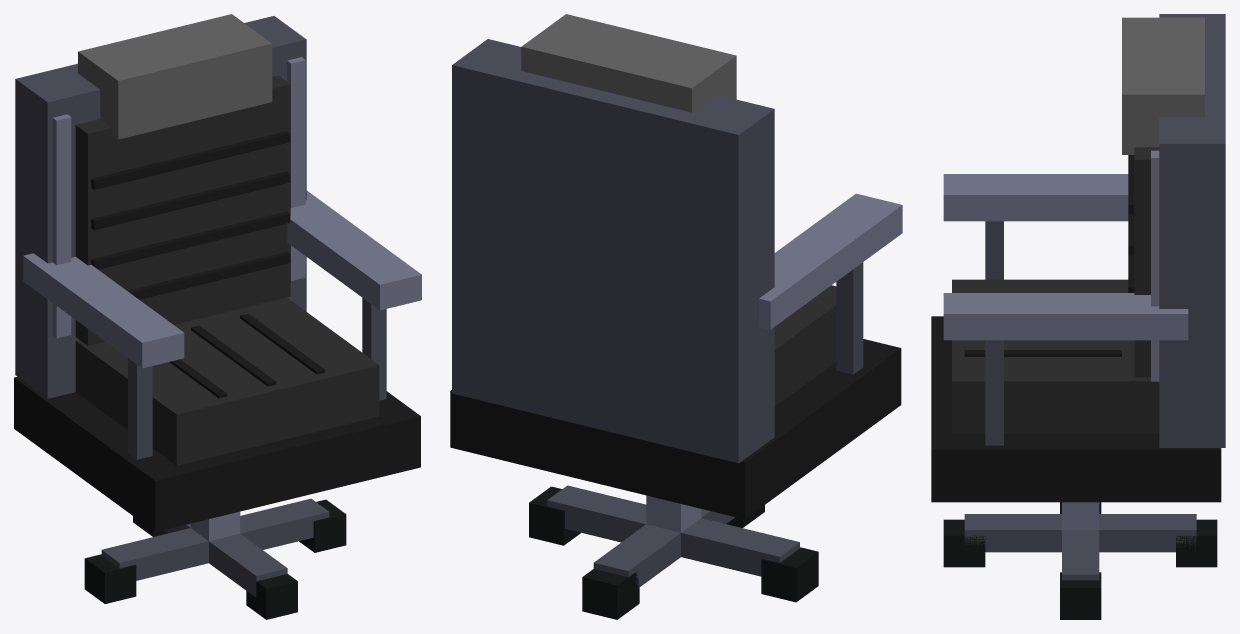
The model's file is CMU3DComfyChairARES.glb.
The picture shows the model from 3 angles, left to right: view 1: azimuth 30°, elevation 25°; view 2: azimuth 150°, elevation 25°; view 3: azimuth 270°, elevation 25°; orthographic projection. The views are drawn at different scales.
Parts seen in each view (by area): view 1: back cushion, seat cushion, seat base, back shell, headrest, upholstery rib (×4), left arm pad, right arm pad, back edge piping (×2), caster cross X, caster wheel (×3), arm front stanchion (×2) (+3 smaller); view 2: back shell, seat base, headrest, left arm pad, caster cross X, caster wheel (×3), seat cushion, caster cross Y, arm front stanchion, chrome swivel stem; view 3: back shell, seat base, seat cushion, right arm pad, headrest, left arm pad, caster cross Y, caster wheel (×3), back cushion, arm front stanchion (×2), caster cross X, back edge piping (+3 smaller).
Part boxes in pixels (left/top/right/bottom): back cushion: left=75, top=75, right=290, bottom=345; seat cushion: left=75, top=297, right=379, bottom=465; seat base: left=14, top=377, right=420, bottom=531; back shell: left=15, top=16, right=306, bottom=398; headrest: left=78, top=14, right=272, bottom=139; upholstery rib (×4): left=91, top=131, right=290, bottom=299; left arm pad: left=23, top=253, right=184, bottom=368; right arm pad: left=287, top=190, right=421, bottom=310; back edge piping (×2): left=52, top=57, right=305, bottom=338; caster cross X: left=101, top=498, right=329, bottom=580; caster wheel (×3): left=84, top=499, right=346, bottom=619; arm front stanchion (×2): left=128, top=298, right=386, bottom=459; back shell: left=452, top=39, right=774, bottom=463; seat base: left=450, top=339, right=901, bottom=519; headrest: left=521, top=14, right=736, bottom=112; left arm pad: left=759, top=193, right=902, bottom=329; caster cross X: left=547, top=485, right=799, bottom=576; caster wheel (×3): left=529, top=486, right=818, bottom=619; seat cushion: left=774, top=285, right=836, bottom=406; caster cross Y: left=593, top=509, right=735, bottom=588; arm front stanchion: left=836, top=262, right=863, bottom=374; chrome swivel stem: left=646, top=495, right=701, bottom=532; back shell: left=1159, top=14, right=1225, bottom=447; seat base: left=931, top=316, right=1221, bottom=502; seat cushion: left=952, top=279, right=1159, bottom=433; right arm pad: left=943, top=293, right=1188, bottom=340; headrest: left=1122, top=17, right=1204, bottom=154; left arm pad: left=943, top=174, right=1128, bottom=221; caster cross Y: left=964, top=514, right=1196, bottom=552; caster wheel (×3): left=943, top=519, right=1217, bottom=619; back cushion: left=1134, top=147, right=1159, bottom=377; arm front stanchion (×2): left=985, top=221, right=1003, bottom=445; caster cross X: left=1062, top=530, right=1099, bottom=580; back edge piping: left=1151, top=150, right=1159, bottom=381.
Size of the model in its own units: 0.8 by 1.34 by 0.71.
